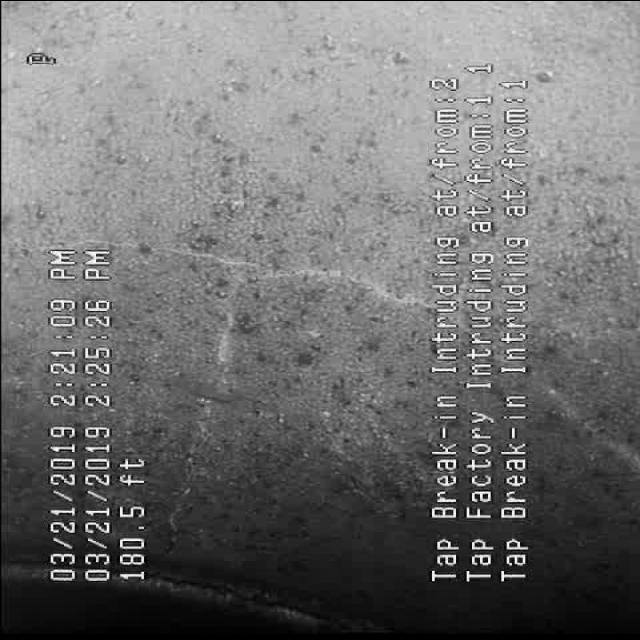Crack: (160, 228, 306, 510)
